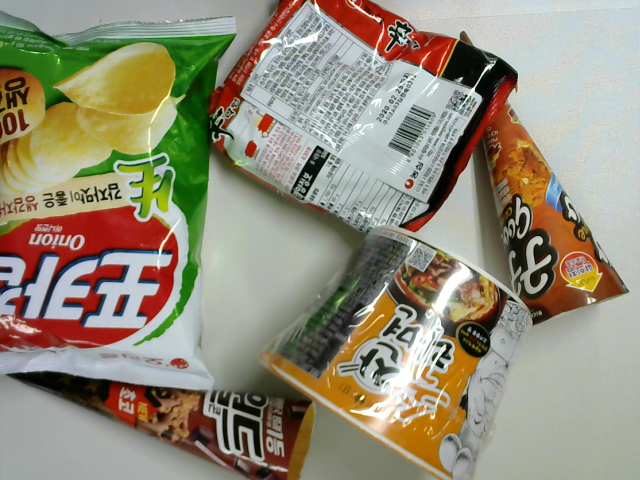GooGoo_Cone_CVS: (447, 24, 635, 336)
Hejangchan: (261, 223, 532, 480)
Pocachip_Onion: (1, 7, 244, 394)
Sinramen: (197, 1, 521, 250)
World_Cone_Choco: (13, 353, 323, 480)
